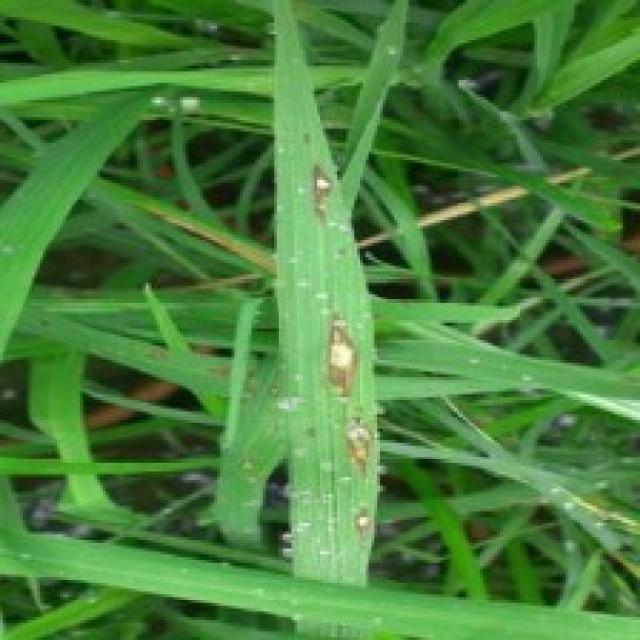Unhealthy: (327, 325, 360, 398), (346, 416, 375, 471), (314, 163, 333, 224), (351, 504, 372, 539)
